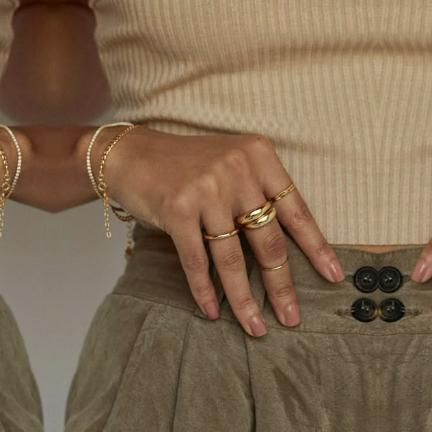Nail: (249, 316, 268, 337), (328, 261, 345, 283), (411, 261, 428, 283), (285, 304, 300, 327), (205, 301, 219, 320)
